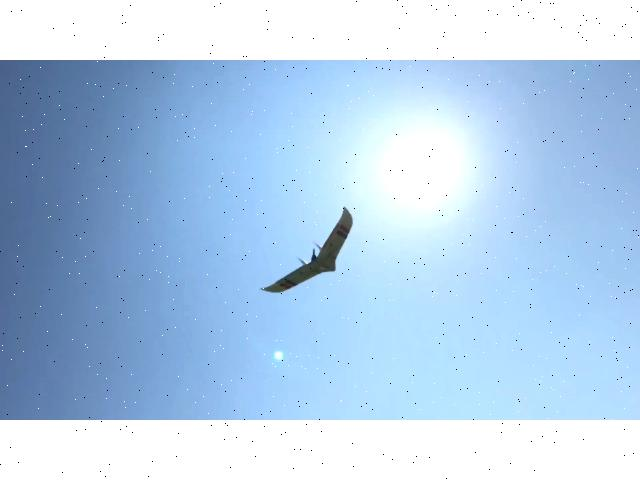Anti-Drone: (259, 202, 359, 305)
